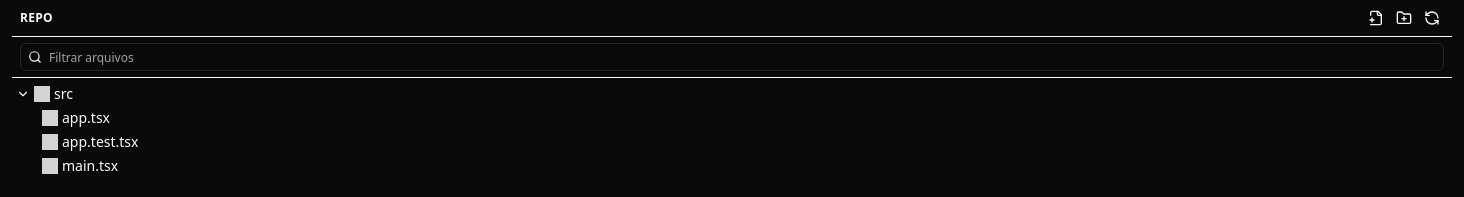
Scenario: <FileTree /> › mostra feedback contextual enquanto o filtro de arquivos está ativo
Check: the text "src" is shown, box [54,84,73,104]
In the field with placeholder "Filtrar arquivos": [732, 57] box [20,43,1444,71], type "app"
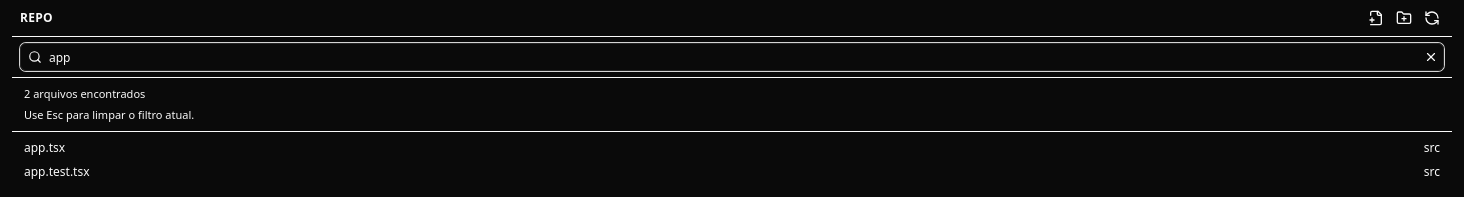
Check: the text "2 arquivos encontrados" is shown, box [24,86,145,101]
Check: the text "Use Esc para limpar o filtro atual." is shown, box [24,106,194,122]
Check: the button "main.tsx" is gone
Replace the text in the field with placeholder "Filtrar arquivos" with "sem-match": [732, 57] box [20,43,1444,71]
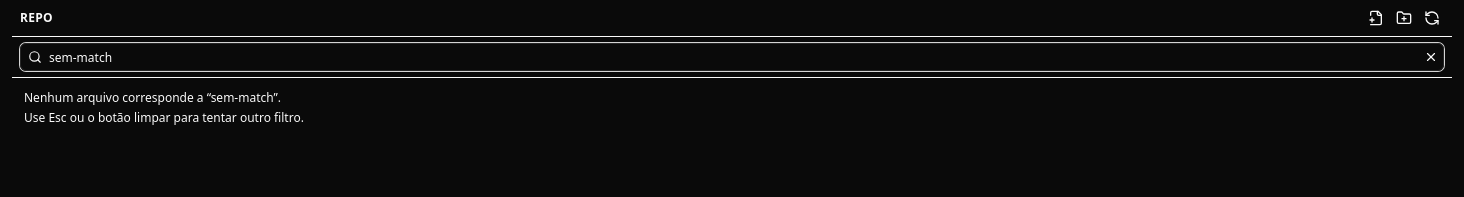
Check: the text "Nenhum arquivo corresponde a “sem-match”." is shown, box [24,89,281,106]
Check: the text "Use Esc ou o botão limpar para tentar outro filtro." is shown, box [24,109,304,126]
